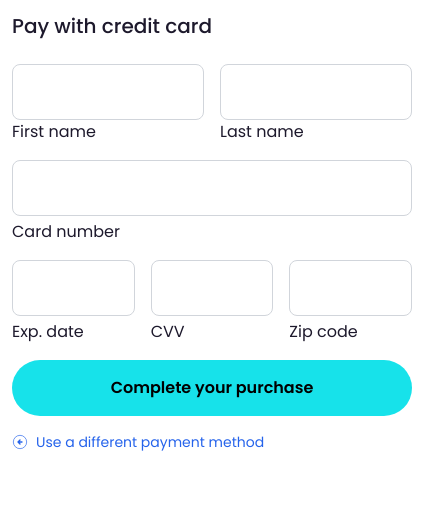
Scenario: CreditCardForm › form validation › shows validation error for invalid hosted fields
In the 1st field: (108, 92) [12, 64, 204, 120], type "John"
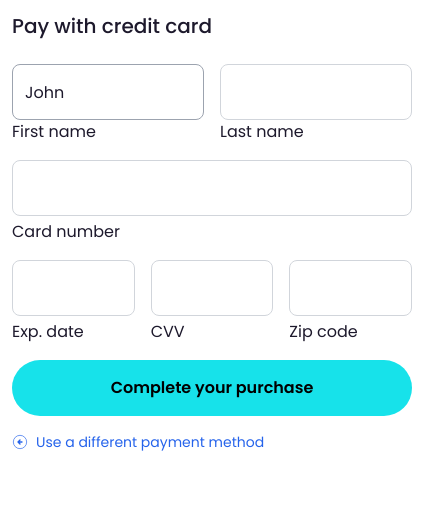
In the 2nd field: (316, 92) [220, 64, 412, 120], type "Doe"
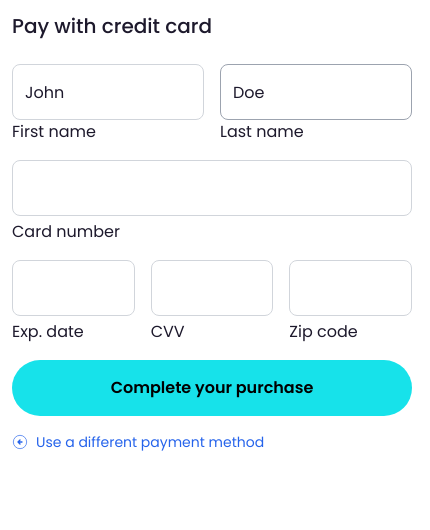
In the 3rd field: (351, 288) [289, 260, 412, 316], type "12345"
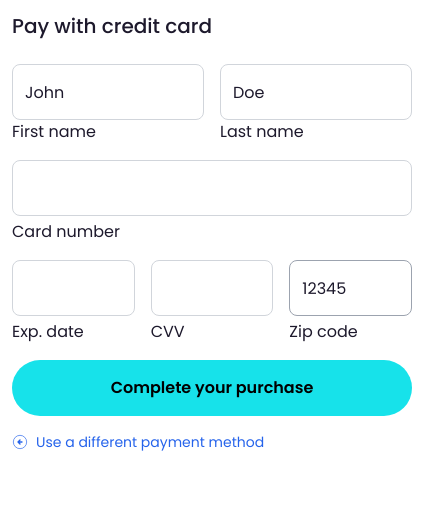
Click the button "Complete your purchase": (212, 388) [12, 360, 412, 416]
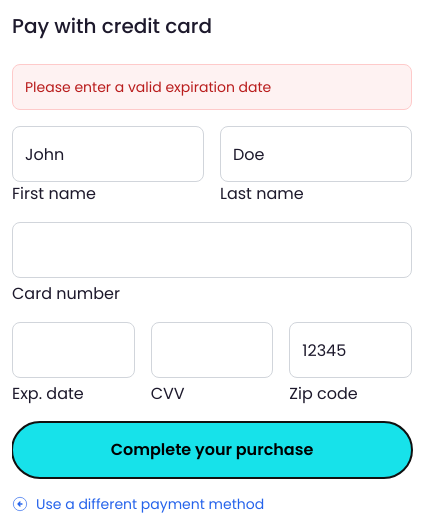
Expected: the text "Please enter a valid expiration date" is shown, [25, 77, 271, 97]
